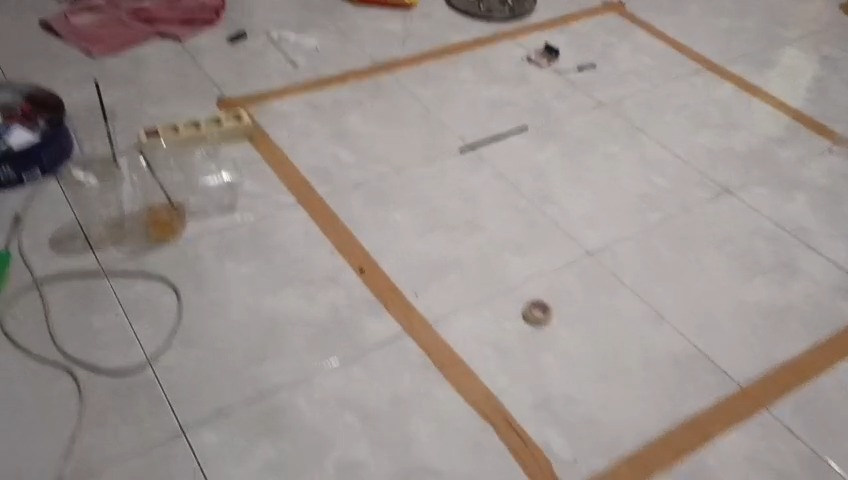floor marking: (250, 123, 556, 479), (217, 1, 847, 144), (590, 326, 847, 479)
